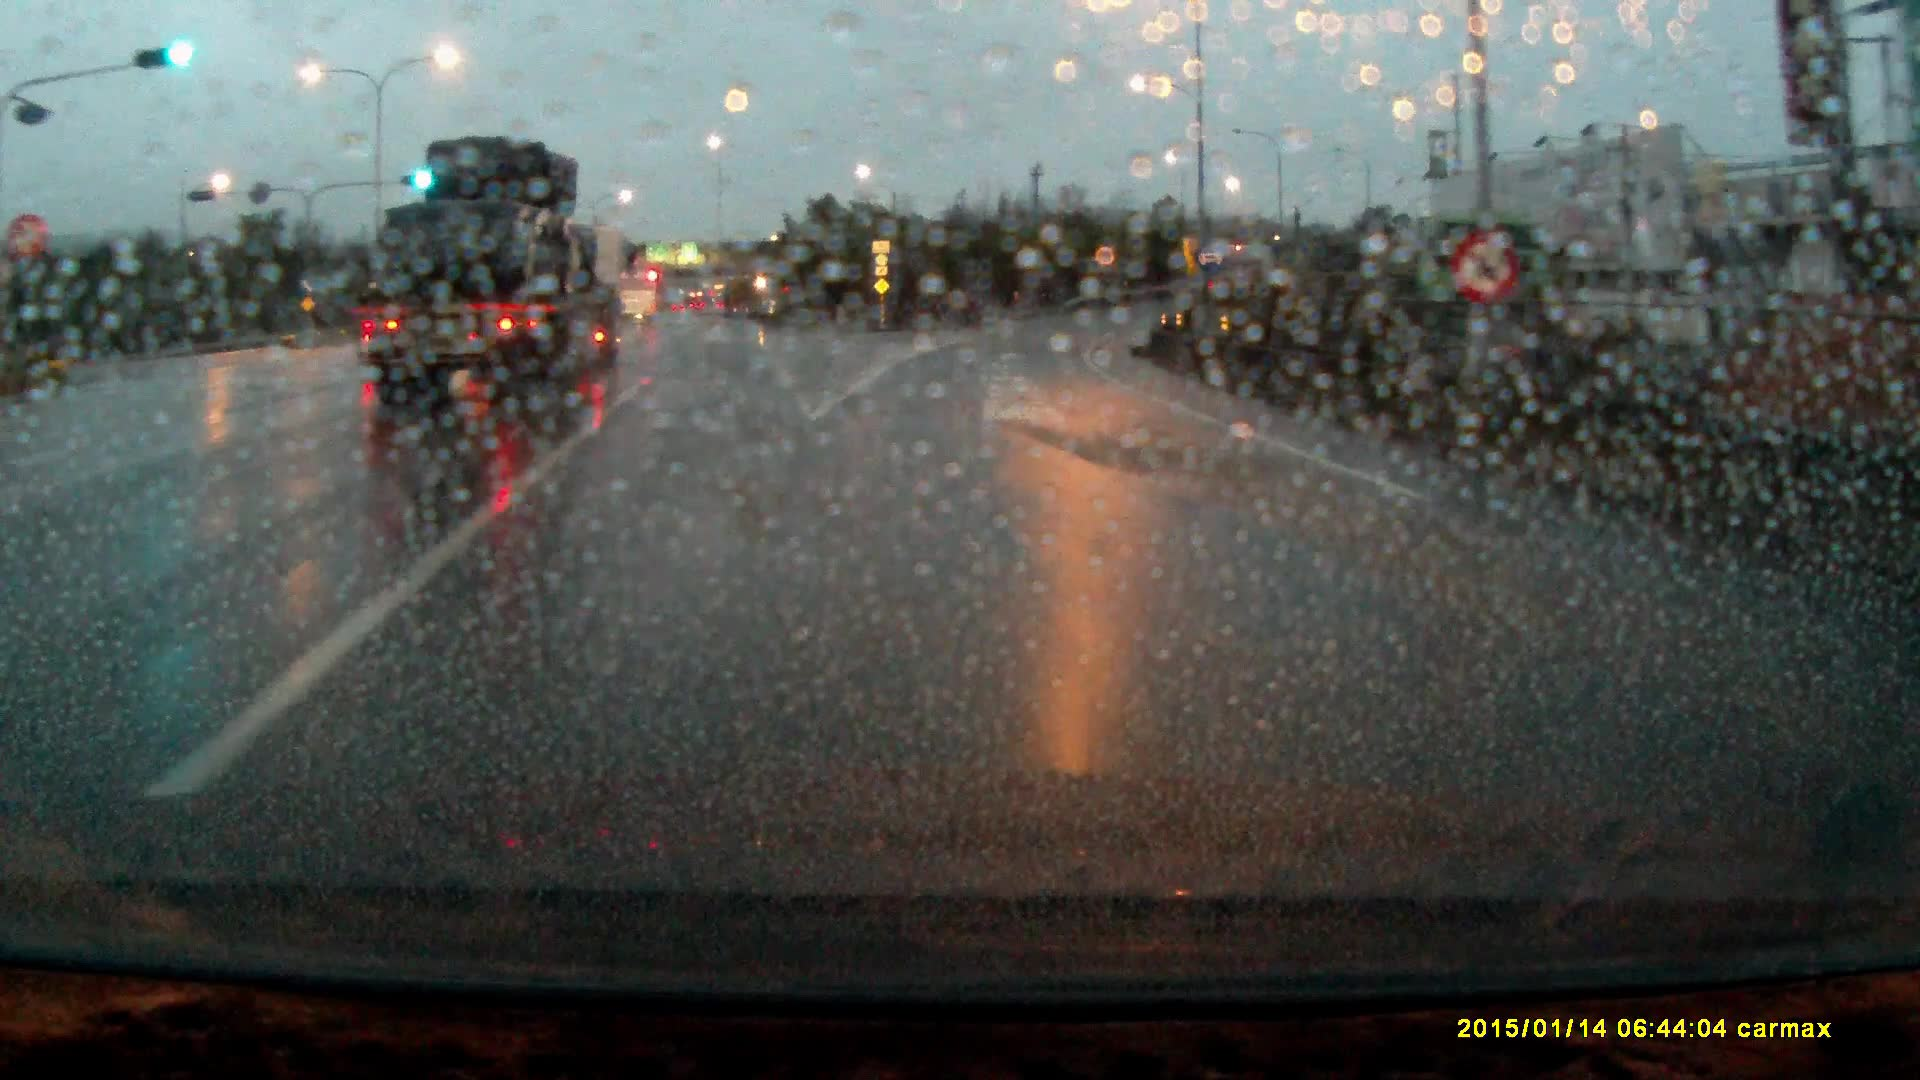vehicle: (360, 133, 630, 415), (621, 265, 665, 322)
